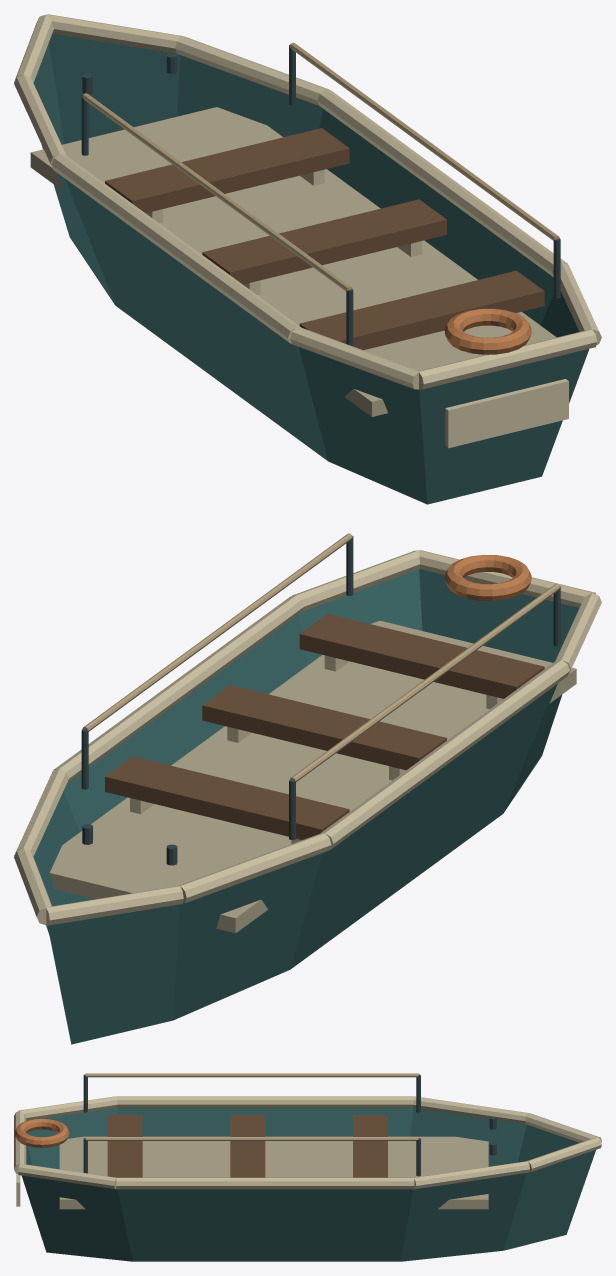
Rendered from shore_ferry.glb.
3 views of the same model, one above another, from view 1: azimuth 30°, elevation 25°; view 2: azimuth 150°, elevation 25°; view 3: azimuth 270°, elevation 25° (orthographic). The views are drawn at different scales.
Parts seen in each view (by area): view 1: MG2 shore_ferry MG2 Paint ferry teal, MG2 shore_ferry MG2 Paint ferry ivory, MG2 shore_ferry MG2 Wood driftwood, MG2 shore_ferry MG2 Wood cedar, MG2 shore_ferry MG2 Rope, MG2 shore_ferry MG2 Paint ferry stripe, MG2 shore_ferry MG2 Metal iron; view 2: MG2 shore_ferry MG2 Paint ferry teal, MG2 shore_ferry MG2 Wood driftwood, MG2 shore_ferry MG2 Paint ferry ivory, MG2 shore_ferry MG2 Wood cedar, MG2 shore_ferry MG2 Rope, MG2 shore_ferry MG2 Paint ferry stripe, MG2 shore_ferry MG2 Metal iron; view 3: MG2 shore_ferry MG2 Paint ferry teal, MG2 shore_ferry MG2 Paint ferry ivory, MG2 shore_ferry MG2 Wood driftwood, MG2 shore_ferry MG2 Wood cedar, MG2 shore_ferry MG2 Rope, MG2 shore_ferry MG2 Paint ferry stripe, MG2 shore_ferry MG2 Metal iron.
Boxes of the visible parts, x1,y1,x2,y2 form: MG2 shore_ferry MG2 Paint ferry teal: (33,33,589,504); MG2 shore_ferry MG2 Paint ferry ivory: (14,14,601,448); MG2 shore_ferry MG2 Wood driftwood: (30,107,556,416); MG2 shore_ferry MG2 Wood cedar: (105,128,544,350); MG2 shore_ferry MG2 Rope: (82,42,559,291); MG2 shore_ferry MG2 Paint ferry stripe: (444,308,531,354); MG2 shore_ferry MG2 Metal iron: (81,45,560,346); MG2 shore_ferry MG2 Paint ferry teal: (33,569,579,1044); MG2 shore_ferry MG2 Wood driftwood: (50,620,576,933); MG2 shore_ferry MG2 Paint ferry ivory: (14,550,601,925); MG2 shore_ferry MG2 Wood cedar: (105,613,544,839); MG2 shore_ferry MG2 Rope: (82,533,559,782); MG2 shore_ferry MG2 Paint ferry stripe: (444,555,531,600); MG2 shore_ferry MG2 Metal iron: (81,536,560,865); MG2 shore_ferry MG2 Paint ferry teal: (22,1108,595,1261); MG2 shore_ferry MG2 Paint ferry ivory: (14,1096,601,1206); MG2 shore_ferry MG2 Wood driftwood: (59,1136,488,1209); MG2 shore_ferry MG2 Wood cedar: (107,1115,387,1177); MG2 shore_ferry MG2 Rope: (85,1073,418,1140); MG2 shore_ferry MG2 Paint ferry stripe: (14,1118,69,1147); MG2 shore_ferry MG2 Metal iron: (83,1074,496,1176).
Bounding box in the file's own units: 2.34 × 1.64 × 6.71.
